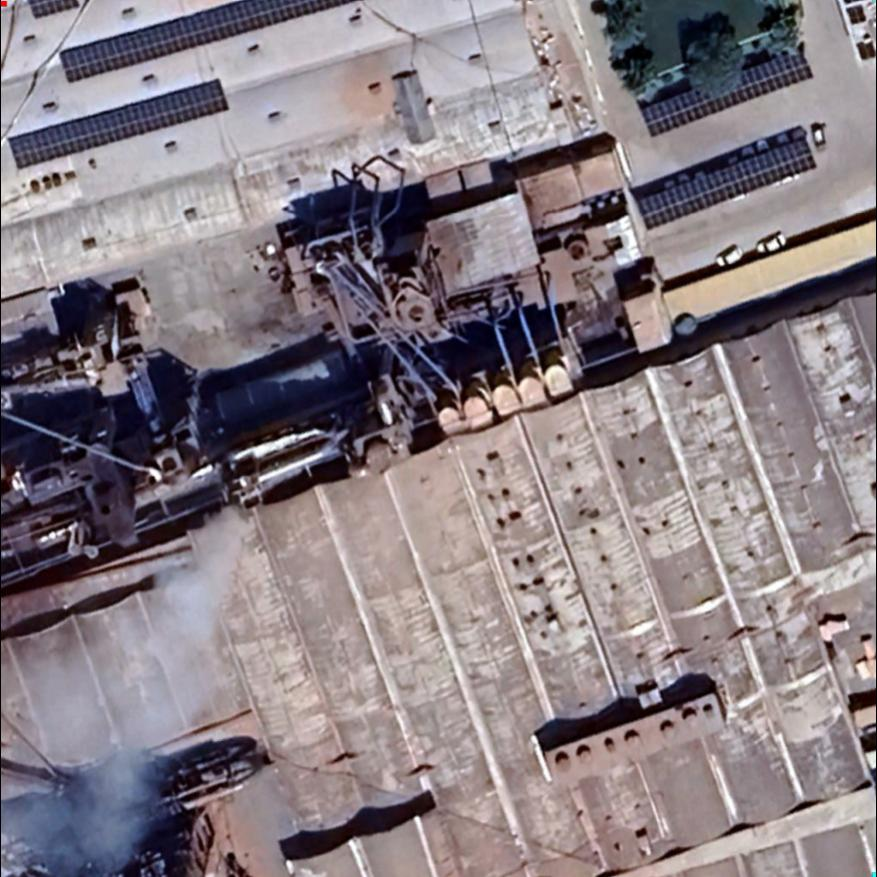Solarpanel: (2, 77, 234, 176), (629, 129, 824, 234), (631, 42, 818, 147), (22, 0, 86, 27)
